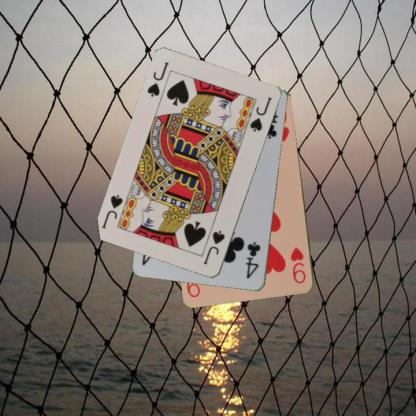4c: (243, 239, 262, 280)
9h: (288, 244, 307, 285)
Js: (144, 59, 170, 99), (200, 228, 226, 266)
